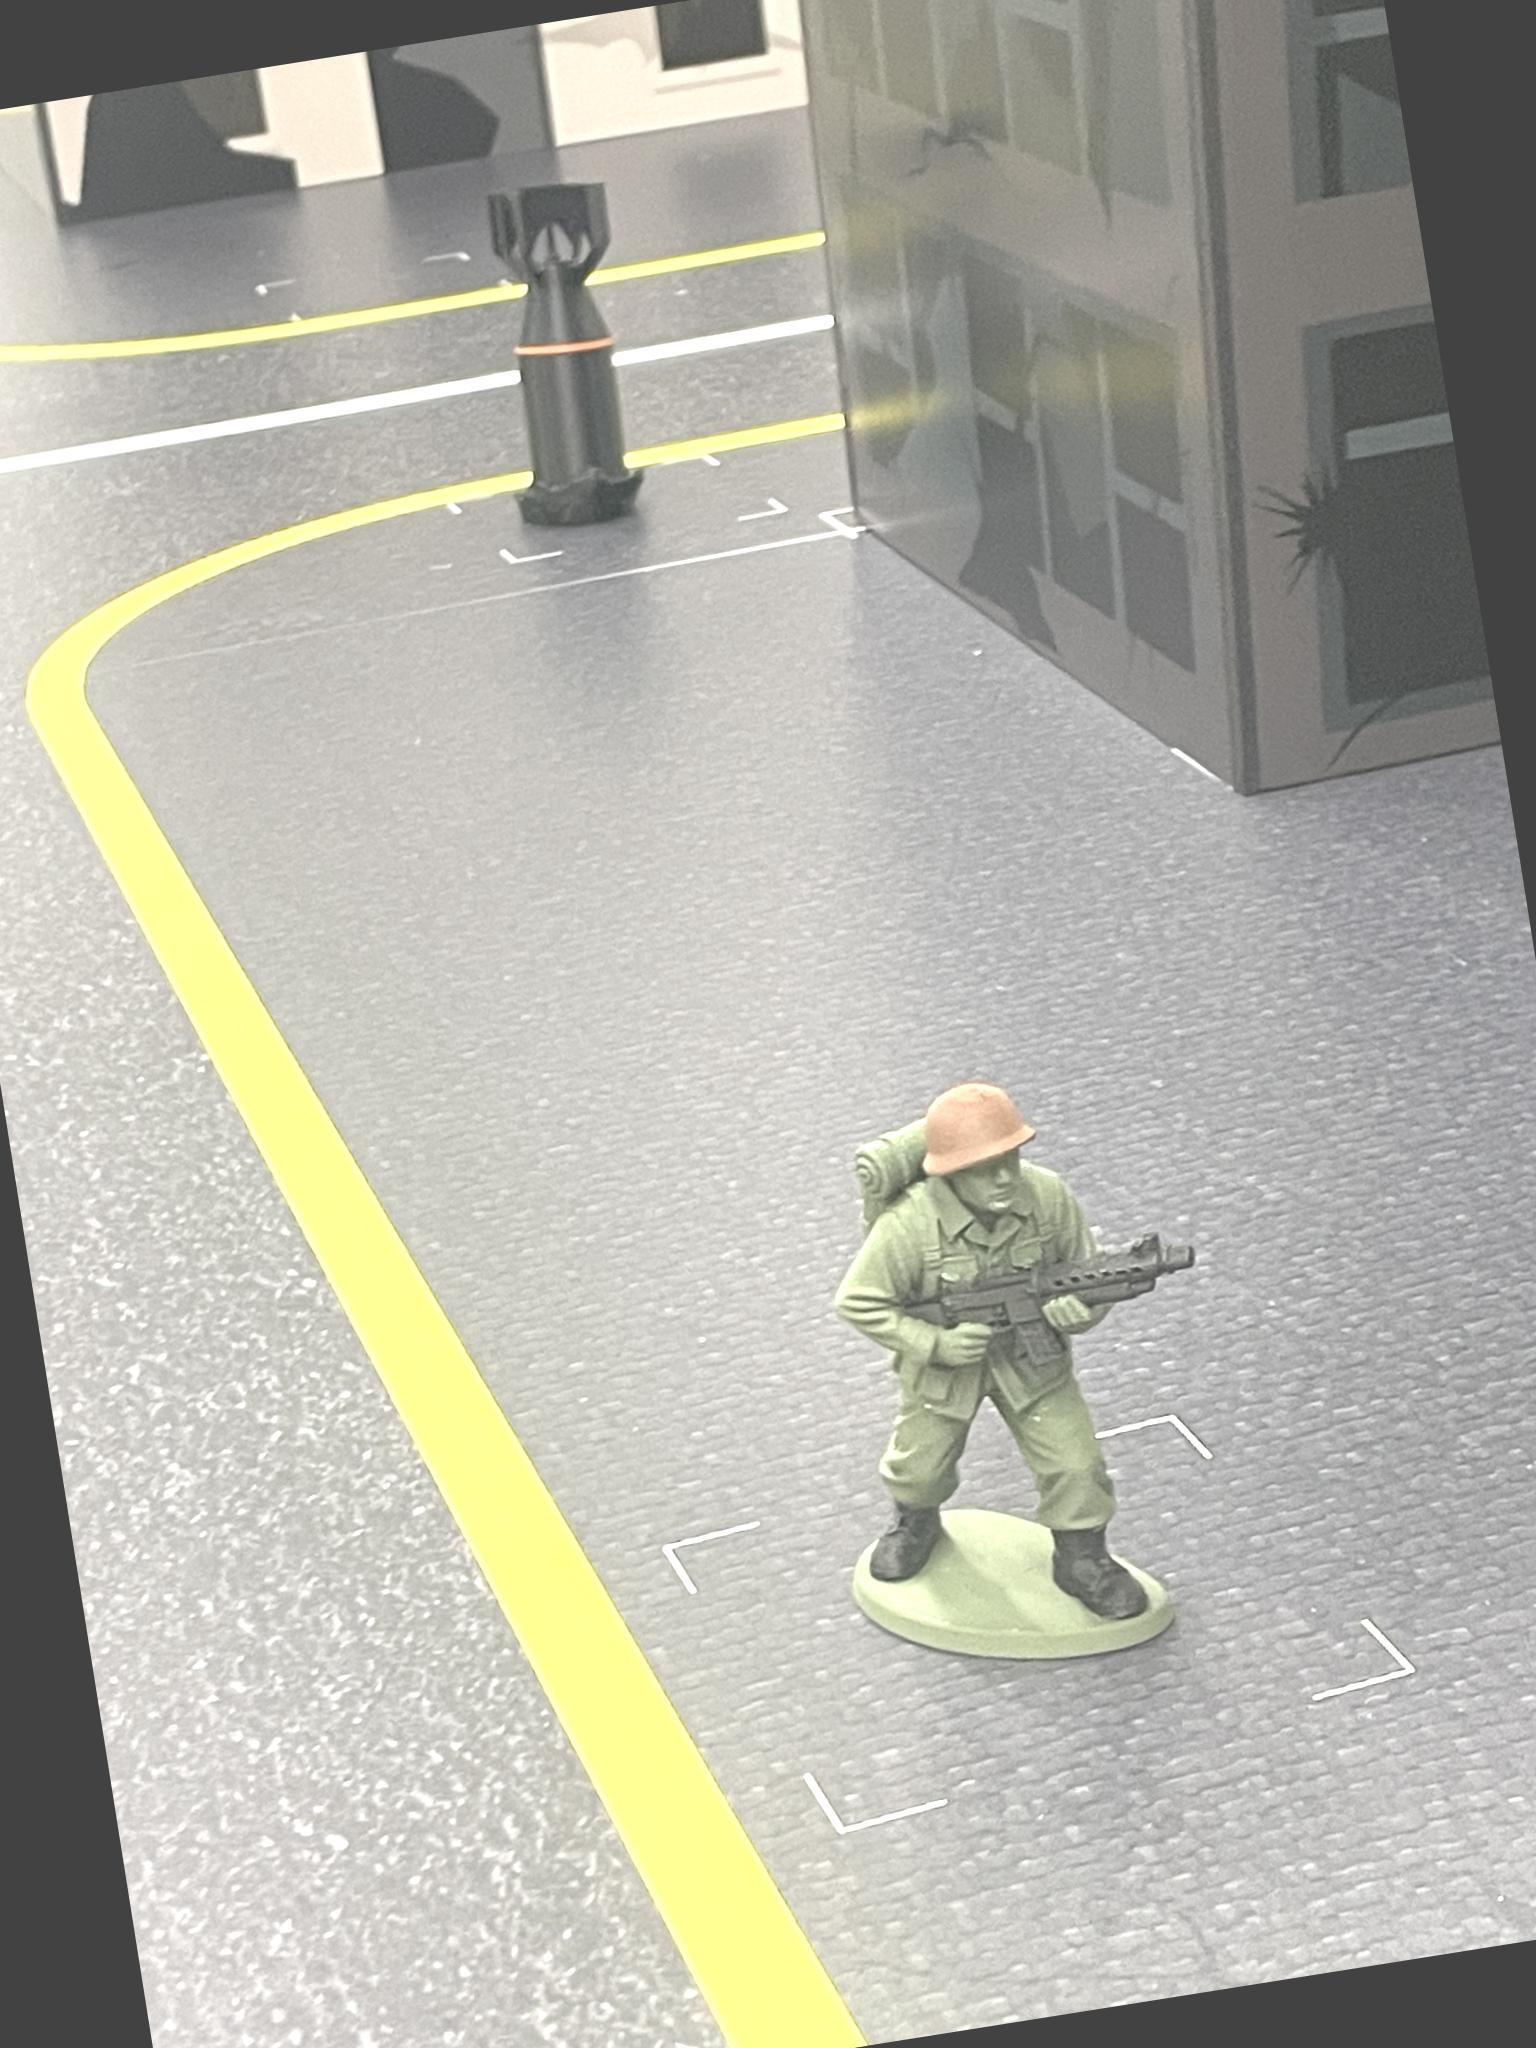Enemy: (786, 1037, 1260, 1700)
Missile: (466, 153, 668, 563)
